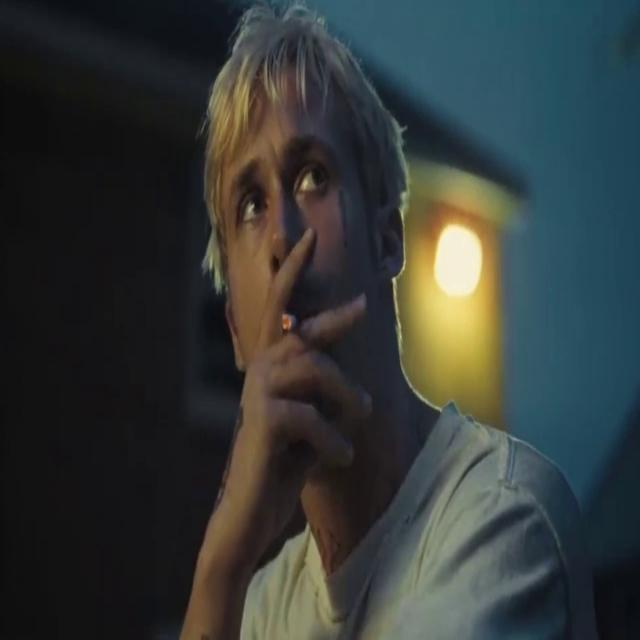Smooking: (274, 295, 298, 339)
